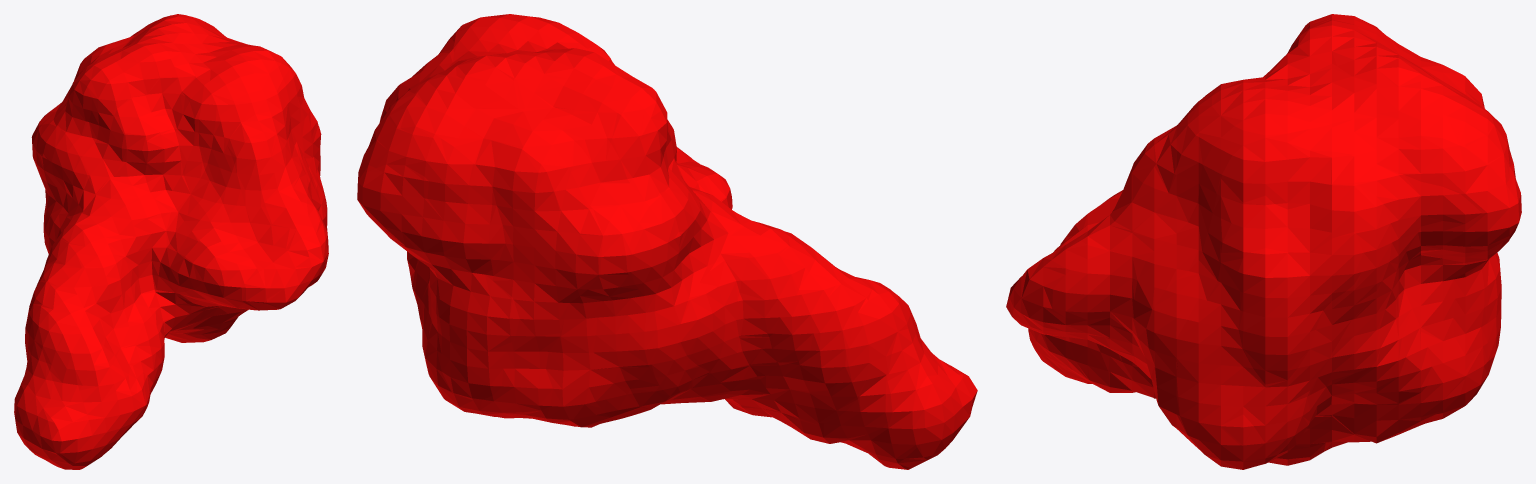
Rendered from fbaA_coarse.dae.
3 renders of one model, left to right at view 1: azimuth 30°, elevation 25°; view 2: azimuth 150°, elevation 25°; view 3: azimuth 270°, elevation 25°, orthographic. The views are drawn at different scales.
Visible parts, largest first — view 1: fbaA; view 2: fbaA; view 3: fbaA.
Boxes of the visible parts, bbox=[...] form: fbaA: bbox=[14, 14, 328, 469]; fbaA: bbox=[357, 14, 977, 469]; fbaA: bbox=[1006, 14, 1521, 469].
Bounding box in the file's own units: 65.62 × 57.14 × 57.63.
